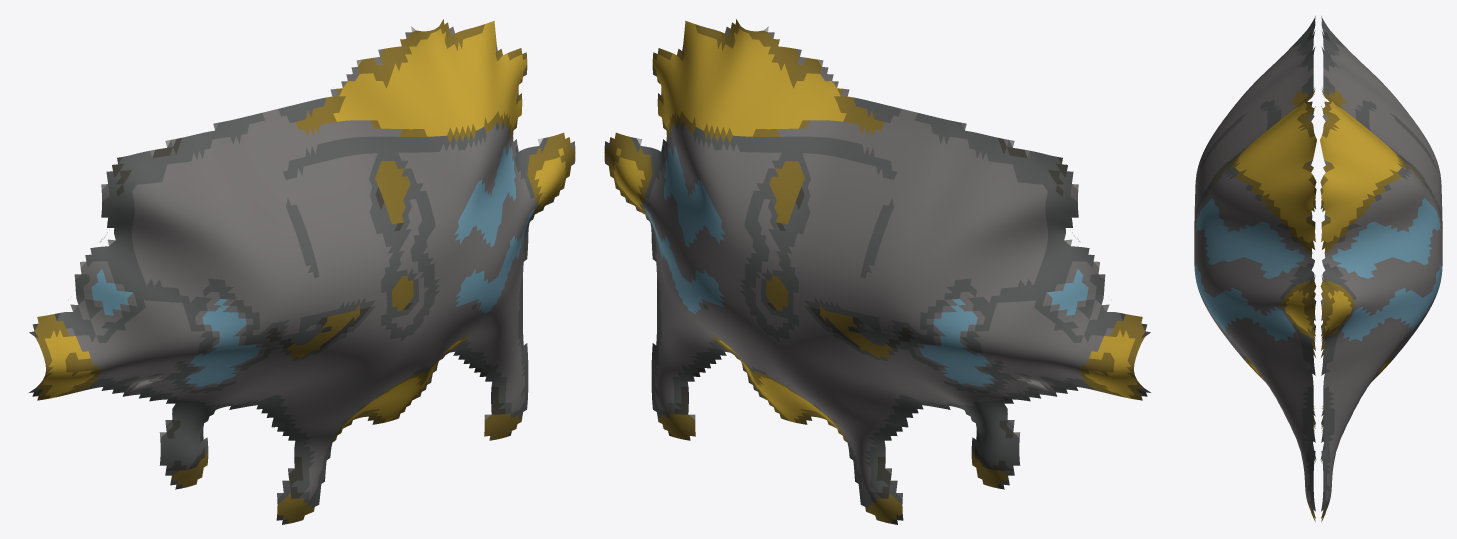
Rendered from metdoyaroe.glb.
3 renders of one model, left to right at view 1: azimuth 30°, elevation 25°; view 2: azimuth 150°, elevation 25°; view 3: azimuth 270°, elevation 25°, orthographic. The views are drawn at different scales.
Parts seen in each view (by area): view 1: metdoyaroe; view 2: metdoyaroe; view 3: metdoyaroe.
Boxes of the visible parts, box(x1,y1,x2,y2) form: metdoyaroe: box(29, 19, 575, 524); metdoyaroe: box(604, 19, 1150, 524); metdoyaroe: box(1194, 16, 1442, 521).
Bounding box in the file's own units: 595 × 486 × 259.
